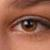eye: (22, 20, 38, 32)
